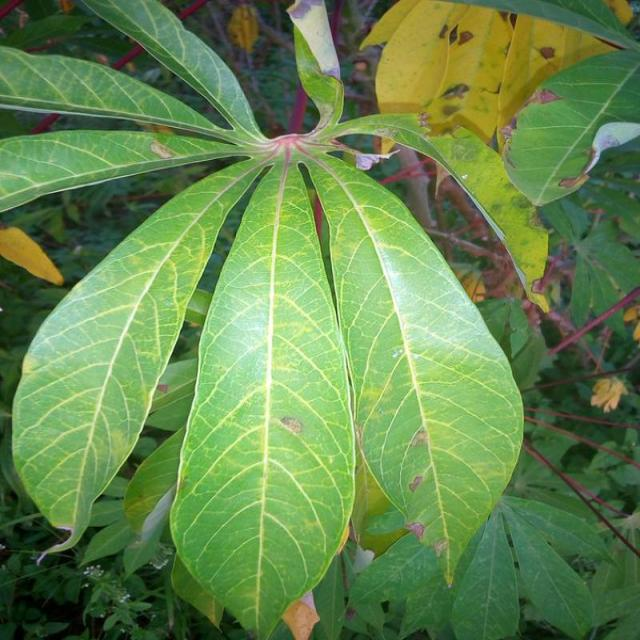cassava leaf: (10, 152, 262, 554), (298, 145, 524, 588), (168, 152, 357, 637)
